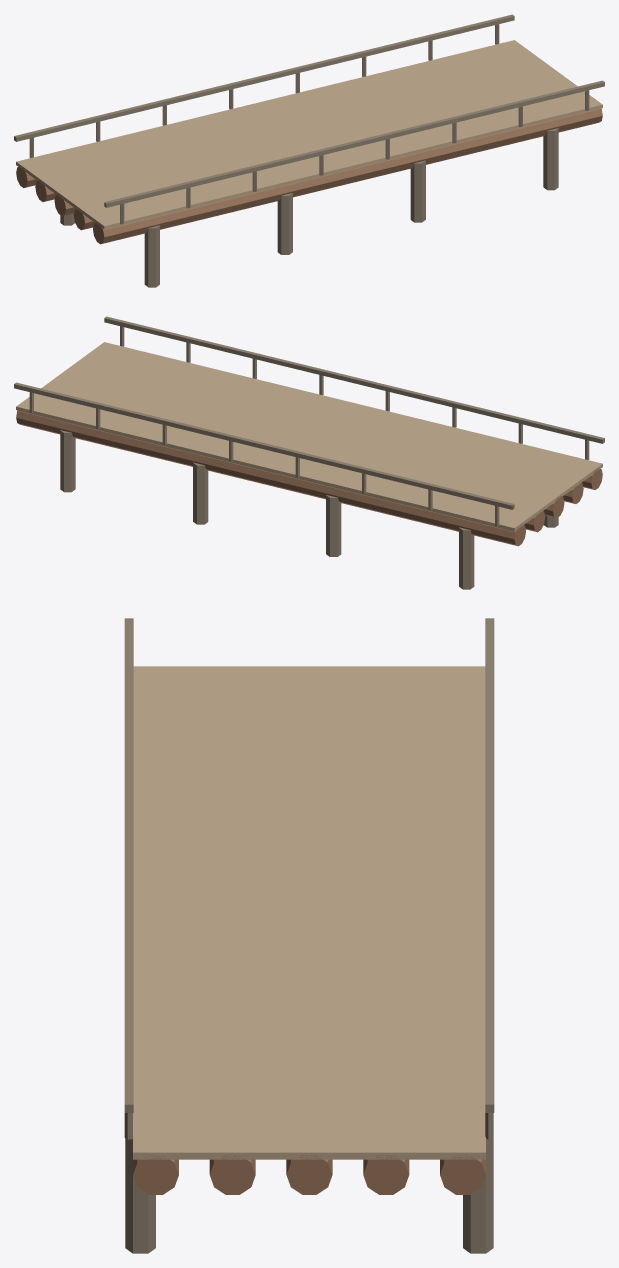
The model's file is LogBridge.glb.
The picture shows the model from 3 angles, top to bottom: view 1: azimuth 30°, elevation 25°; view 2: azimuth 150°, elevation 25°; view 3: azimuth 270°, elevation 25°; orthographic projection. The views are drawn at different scales.
Visible parts, largest first — view 1: Deck planks, Stringer log, Rail, Rail.001, Limb.039, Limb.033, Limb.037, Limb.035; view 2: Deck planks, Stringer log.004, Rail.001, Rail, Limb.040, Limb.034, Limb.038, Limb.036; view 3: Deck planks, Rail, Rail.001, Limb.039, Limb.040, Stringer log.003, Stringer log.002, Stringer log.001, Stringer log.004, Stringer log.
Boxes of the visible parts, x1=… form: Deck planks: x1=16, y1=40, x2=602, y2=229; Stringer log: x1=93, y1=108, x2=602, y2=244; Rail: x1=104, y1=80, x2=604, y2=207; Rail.001: x1=14, y1=14, x2=514, y2=141; Limb.039: x1=543, y1=128, x2=558, y2=190; Limb.033: x1=144, y1=225, x2=159, y2=287; Limb.037: x1=410, y1=160, x2=425, y2=222; Limb.035: x1=277, y1=193, x2=292, y2=254; Deck planks: x1=16, y1=342, x2=602, y2=531; Stringer log.004: x1=16, y1=410, x2=525, y2=546; Rail.001: x1=14, y1=382, x2=514, y2=509; Rail: x1=104, y1=316, x2=604, y2=443; Limb.040: x1=60, y1=430, x2=75, y2=492; Limb.034: x1=459, y1=527, x2=474, y2=589; Limb.038: x1=193, y1=462, x2=208, y2=524; Limb.036: x1=326, y1=495, x2=341, y2=556; Deck planks: x1=133, y1=666, x2=485, y2=1159; Rail: x1=124, y1=618, x2=133, y2=1112; Rail.001: x1=485, y1=618, x2=494, y2=1112; Limb.039: x1=125, y1=1138, x2=155, y2=1253; Limb.040: x1=463, y1=1138, x2=493, y2=1253; Stringer log.003: x1=363, y1=1155, x2=409, y2=1194; Stringer log.002: x1=286, y1=1155, x2=332, y2=1194; Stringer log.001: x1=209, y1=1155, x2=255, y2=1194; Stringer log.004: x1=440, y1=1155, x2=485, y2=1194; Stringer log: x1=133, y1=1155, x2=178, y2=1194.
Bounding box in the file's own units: 15 × 2.76 × 4.82.
